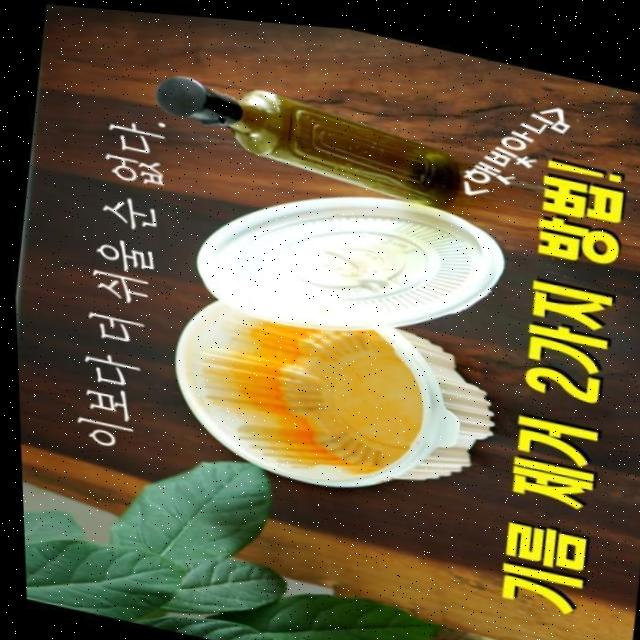disposable: (167, 271, 495, 509)
